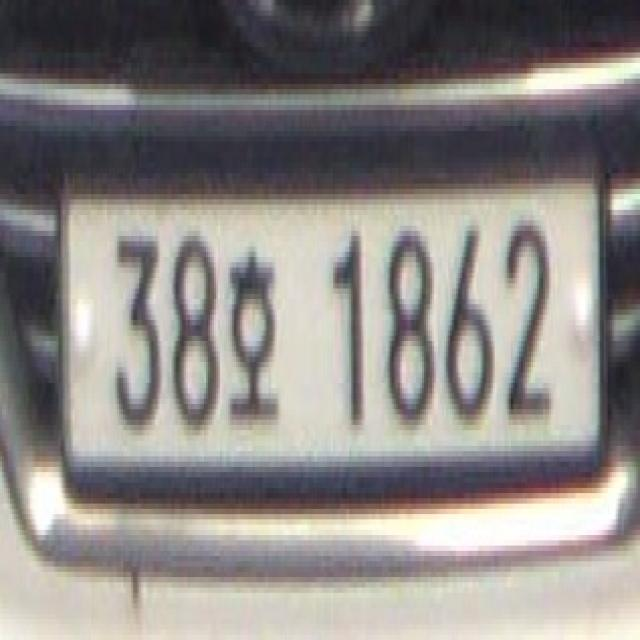1: (331, 226, 368, 430)
2: (503, 220, 553, 425)
3: (113, 226, 164, 430)
6: (444, 220, 493, 425)
8: (384, 220, 438, 430), (172, 225, 222, 436)
ho: (222, 247, 281, 430)
license_plate: (59, 157, 606, 488)
